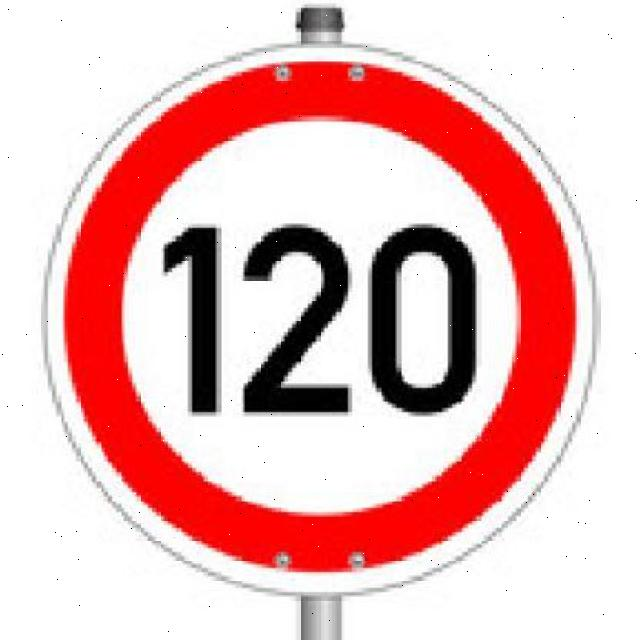speed limit 120: (39, 42, 598, 599)
